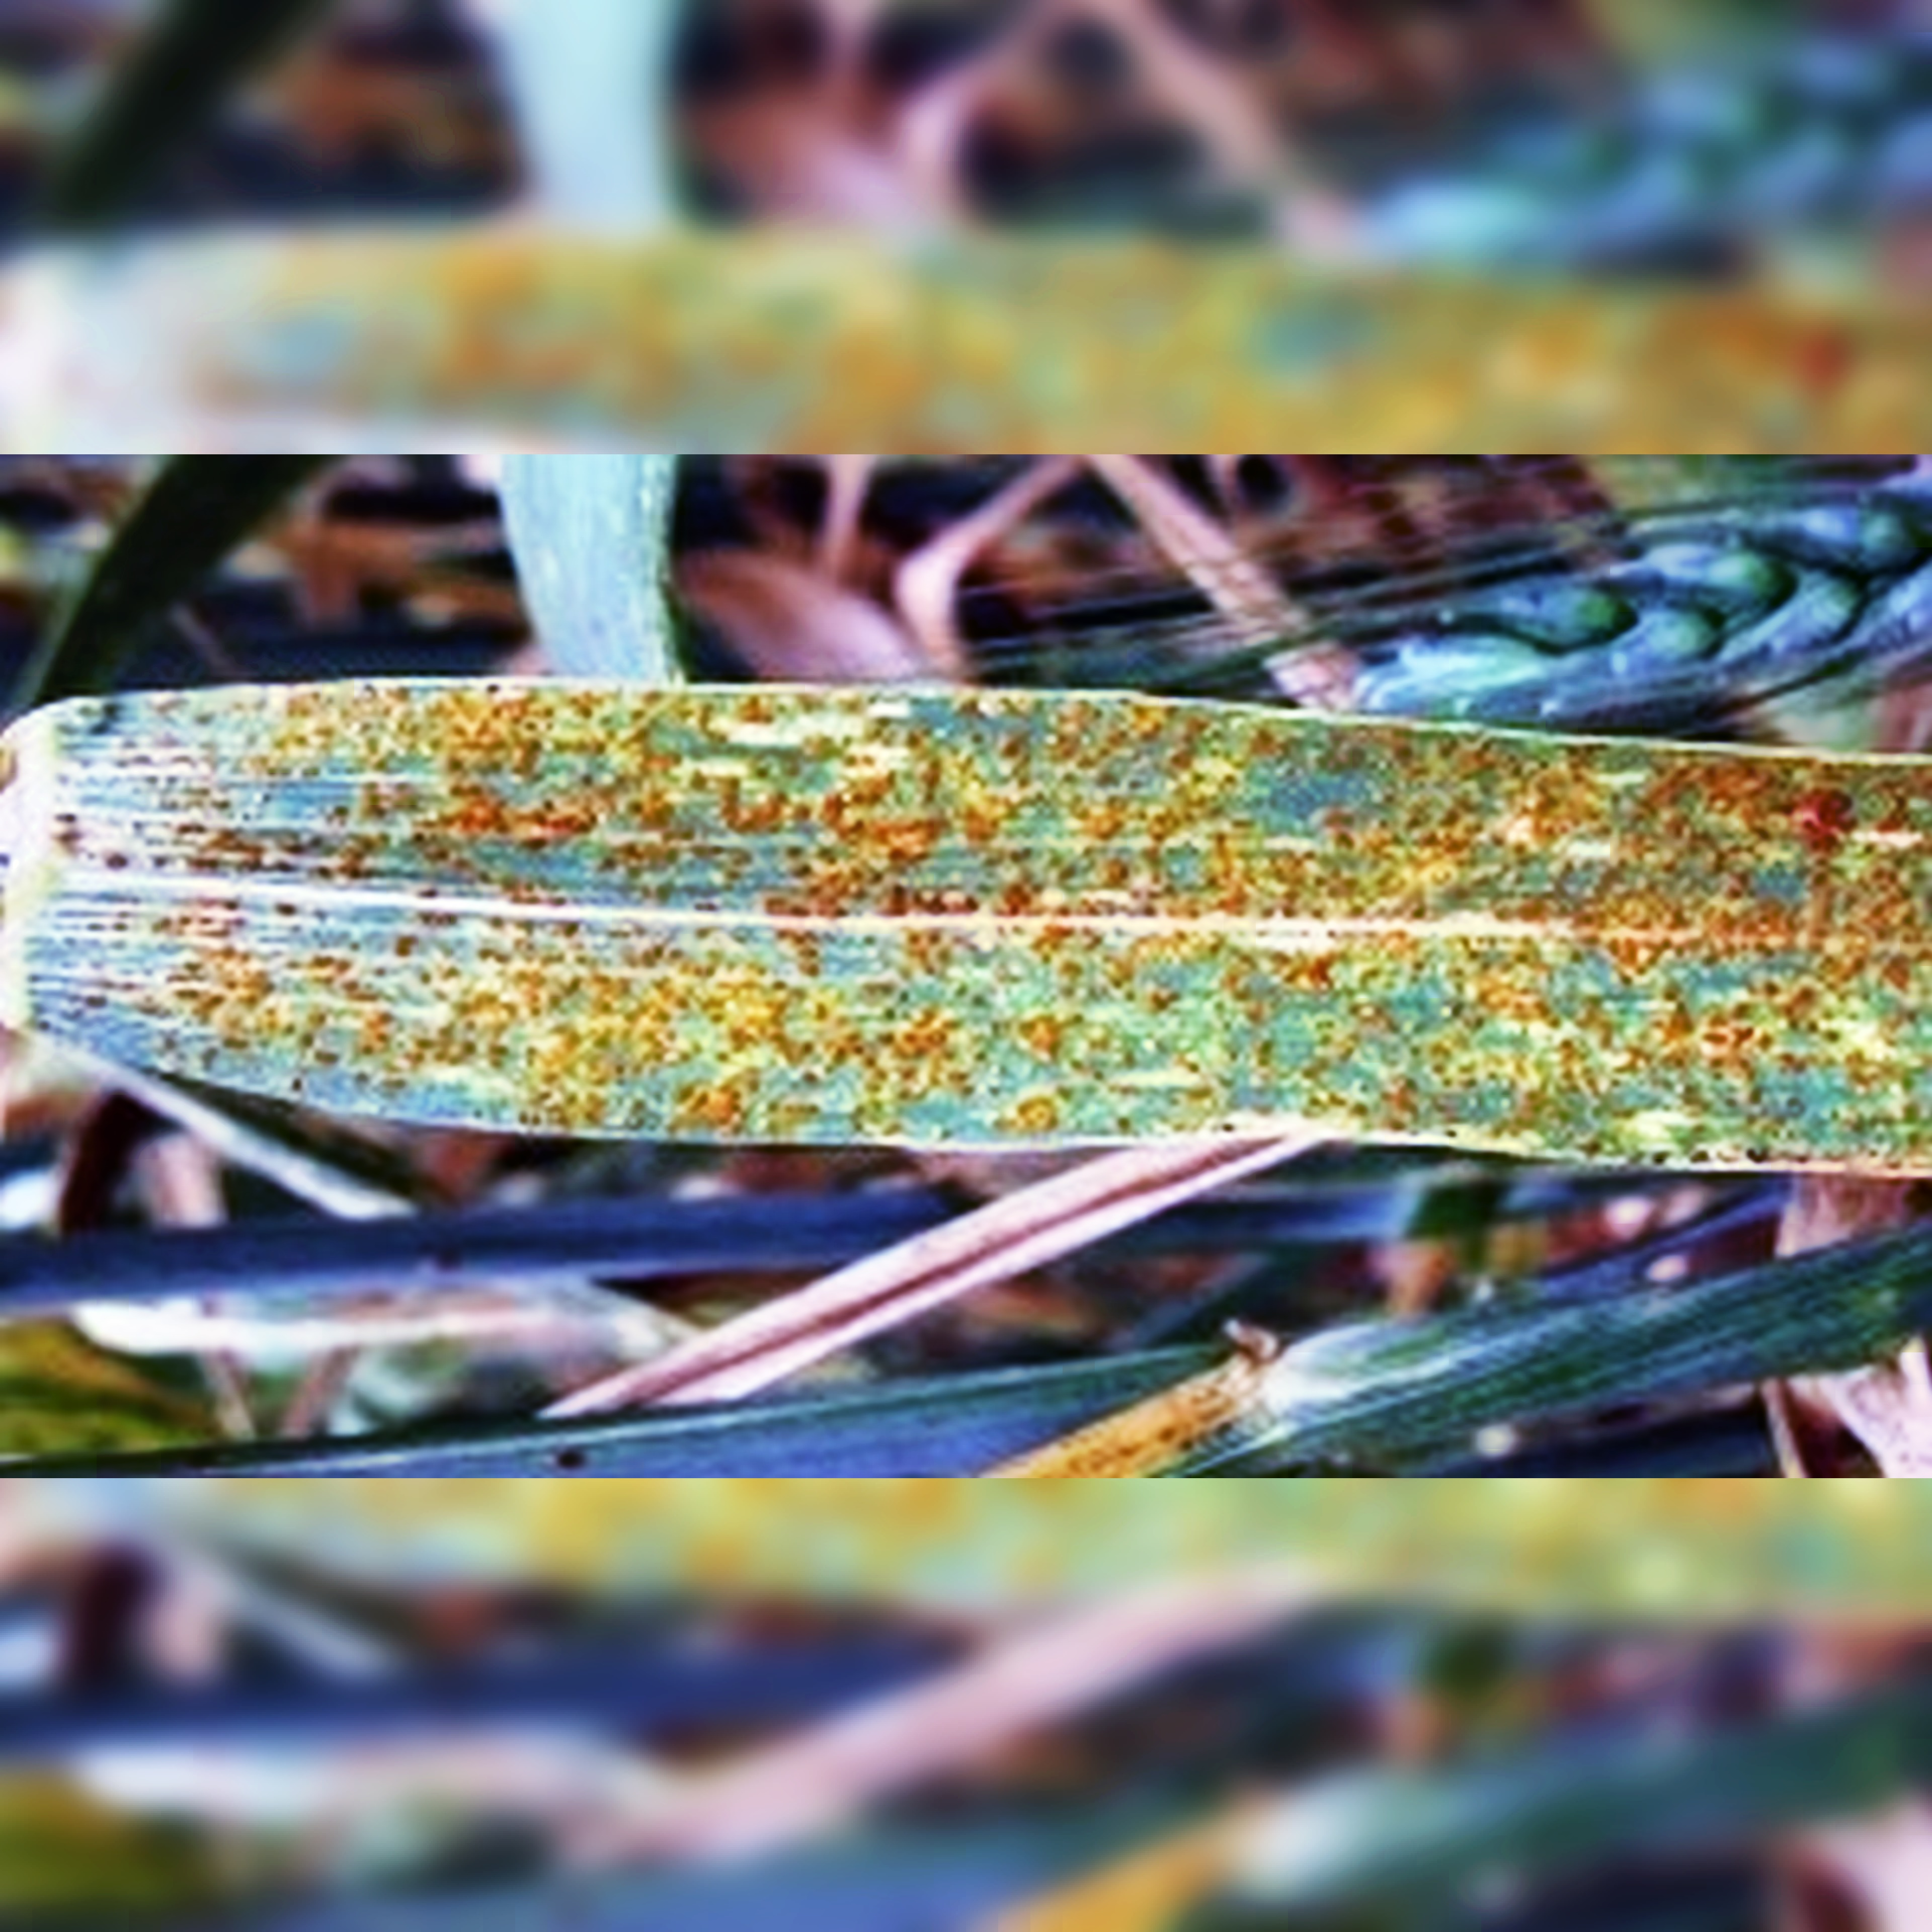Leaf Rust: (170, 669, 1888, 1169)
